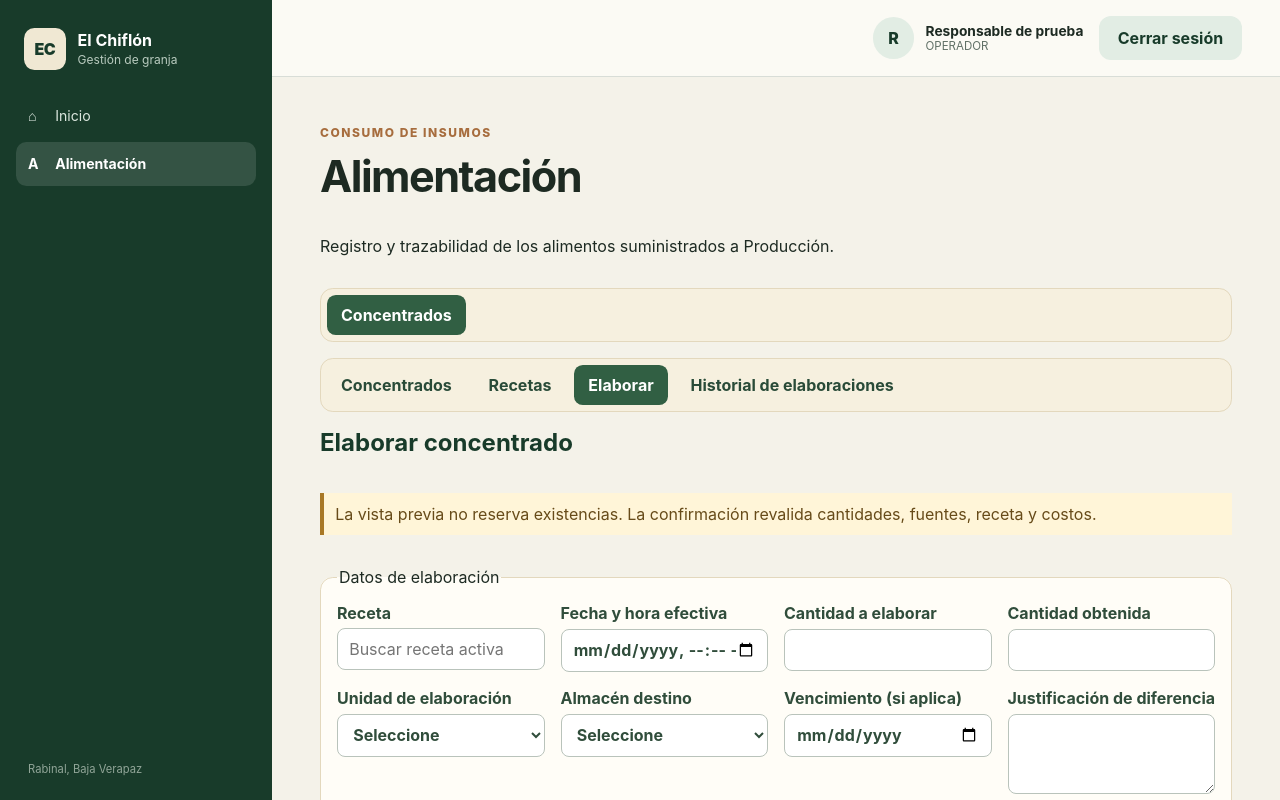
Test: Elaboración considera iguales 395 y 395.000000 sin exigir justificación
Type "crecimiento" into the dropdown labelled "Receta".
click(441, 649); type("crecimiento")  # box [337,628,544,670]
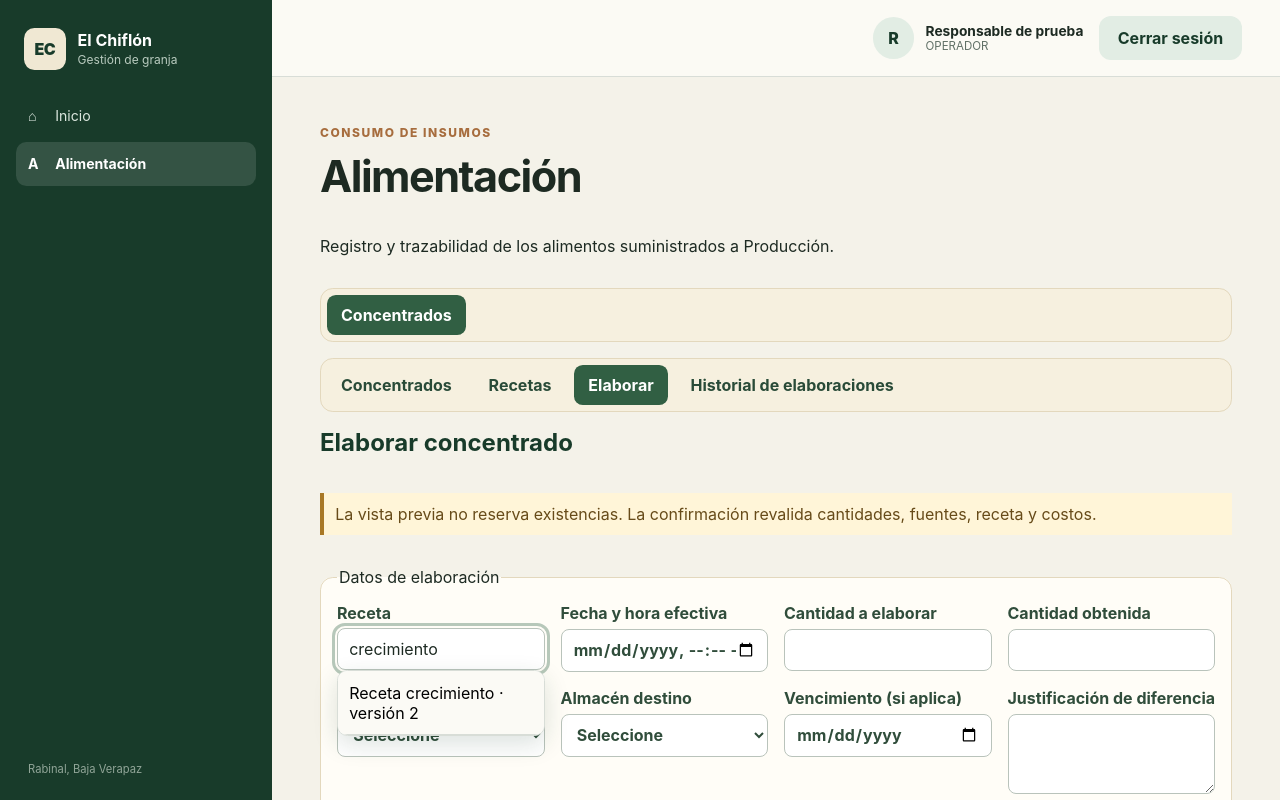
Click the option "Receta crecimiento · versión 2".
click(441, 703)  # box [338,671,544,735]
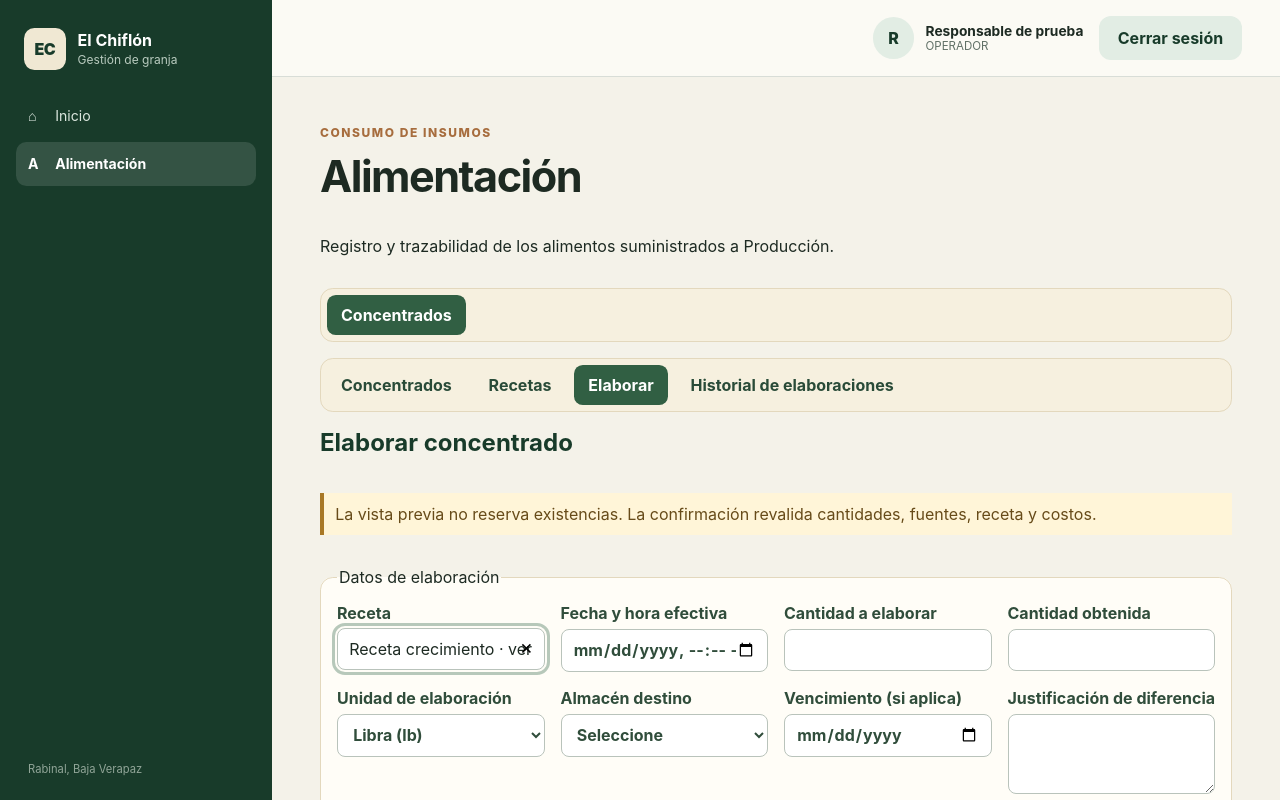
Type "2026-09-22T09:30" into the field labelled "Fecha y hora efectiva".
click(664, 650); type("2026-09-22T09:30")  # box [560,629,768,672]
Type "395" into the field labelled "Cantidad a elaborar".
click(888, 650); type("395")  # box [784,629,992,671]
Type "395" into the field labelled "Cantidad obtenida".
click(1111, 650); type("395")  # box [1008,629,1215,671]
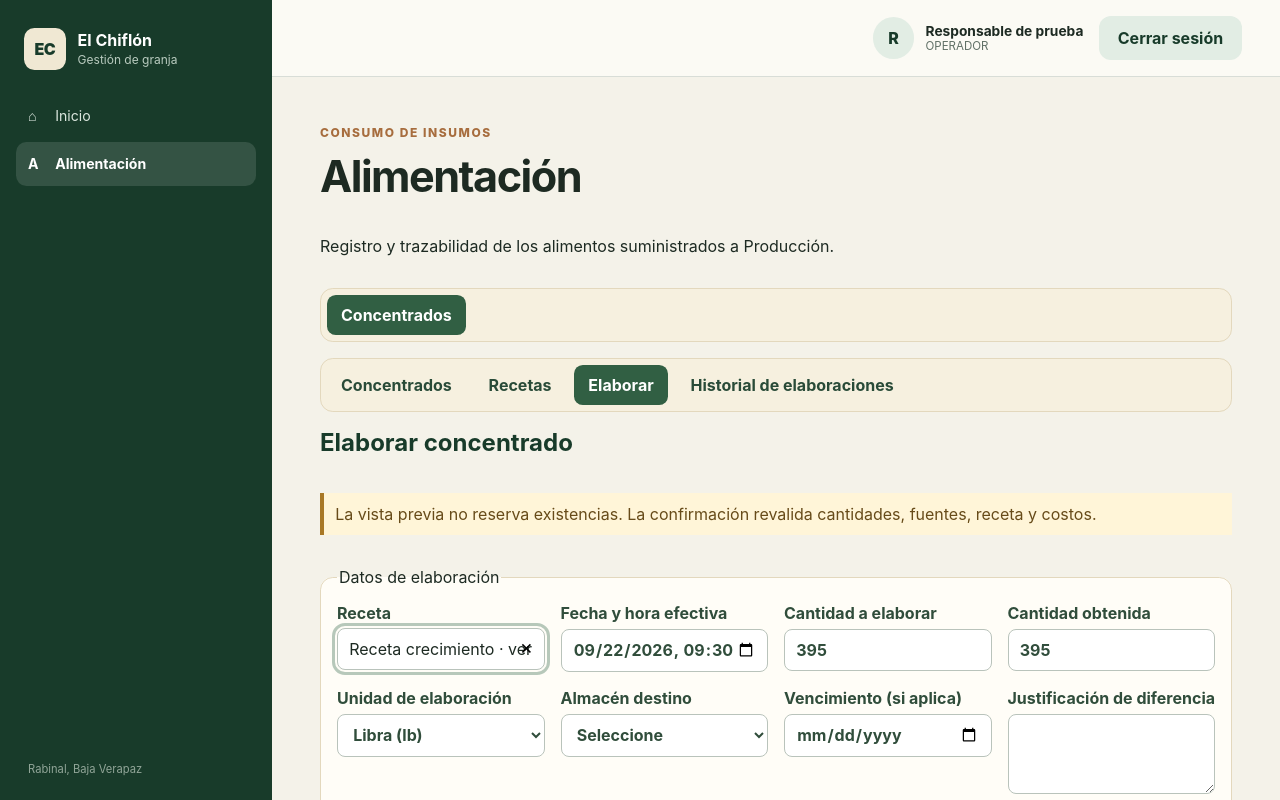
Select "A-7 · Central" in the dropdown labelled "Almacén destino" at (664, 735), box [560,714,768,757]
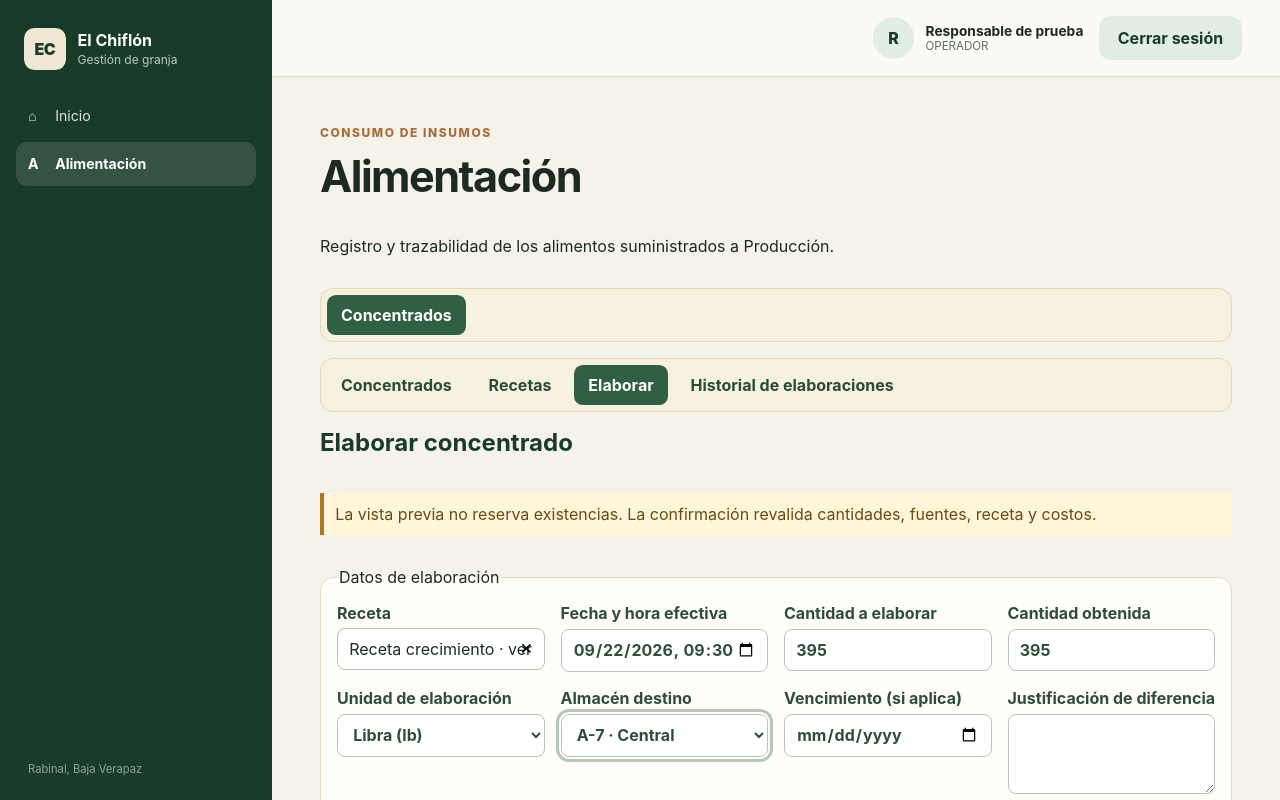
Replace the text in the field labelled "Cantidad obtenida" with "395.000000" at (1111, 650), box [1008,629,1215,671]
(page scrolled)
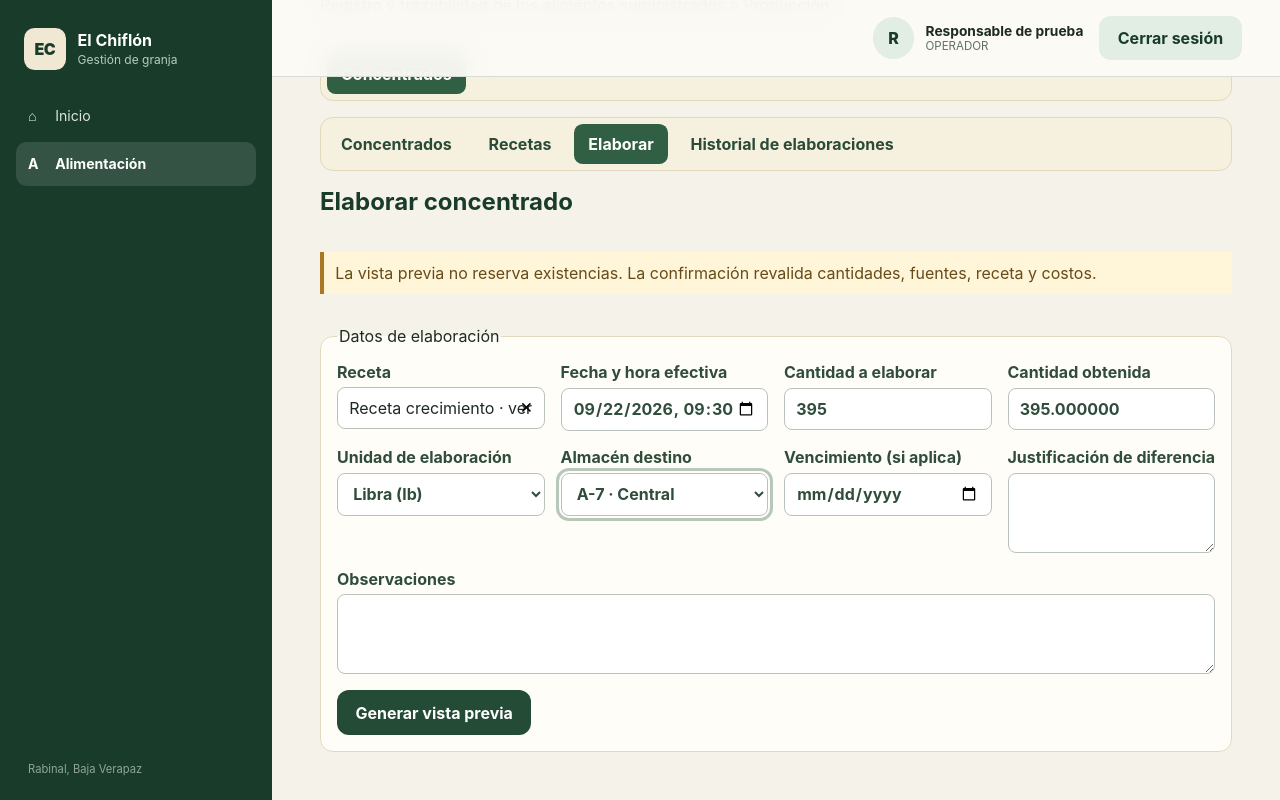
Click the button "Generar vista previa".
click(434, 713)  # box [337,690,531,735]
(page scrolled)
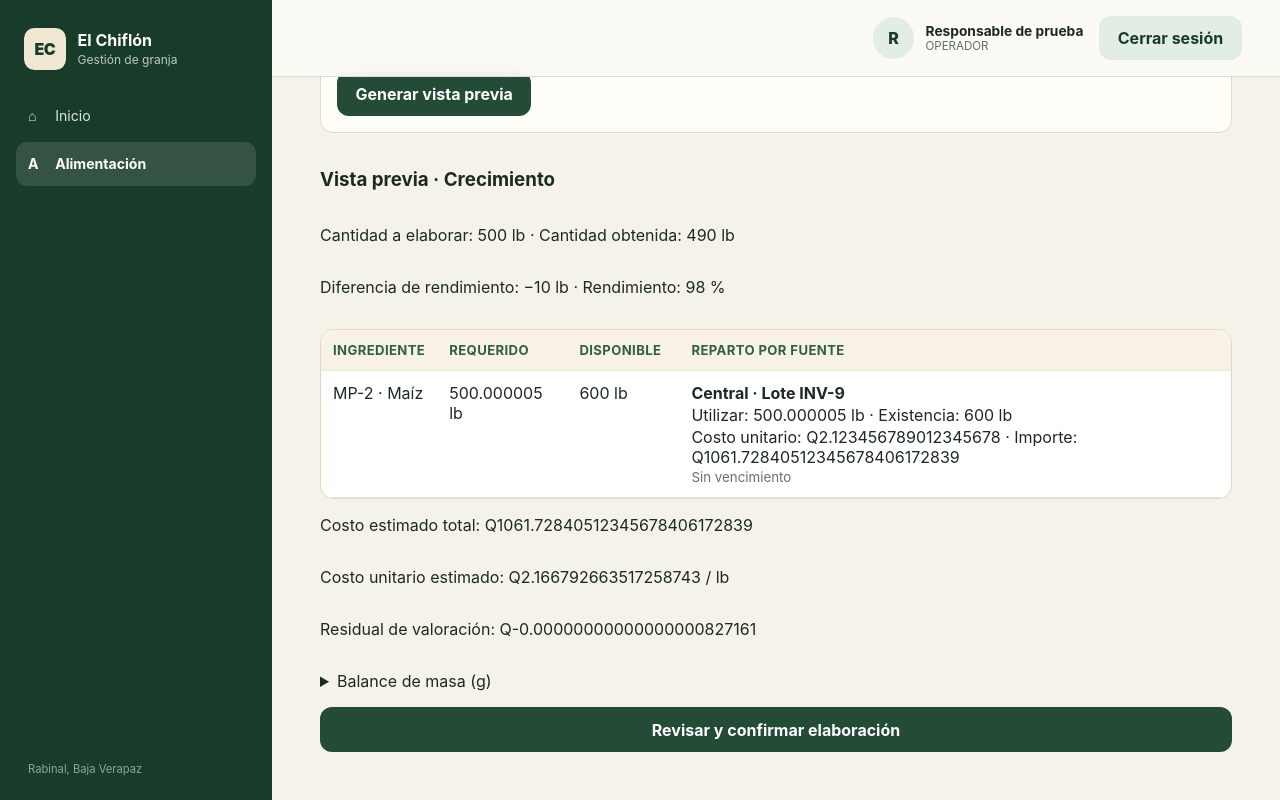
Expected: the element named "Vista previa de elaboración" is shown, [320,149,1232,691]
